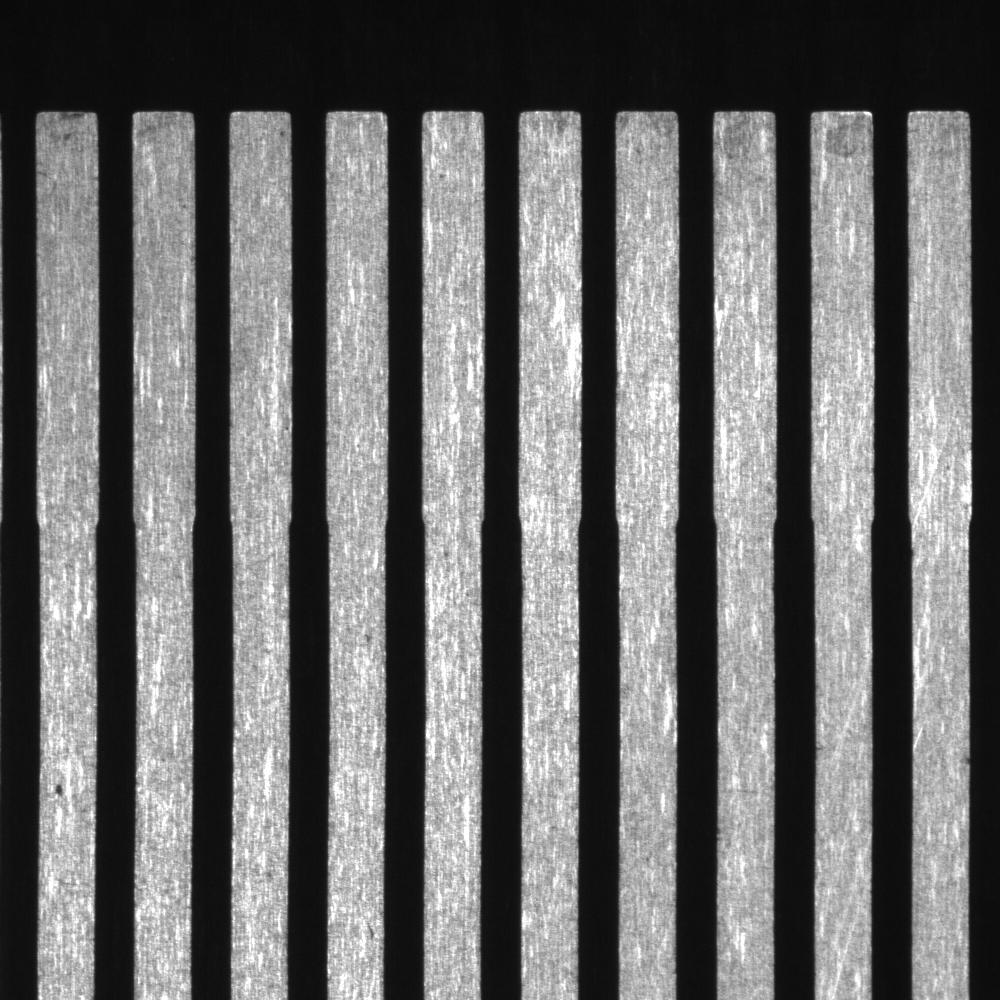Discolor: (716, 109, 771, 214), (39, 112, 96, 207), (821, 115, 875, 188)
Pinhole: (42, 765, 85, 820)
Scar: (911, 387, 968, 561), (351, 905, 382, 957)
